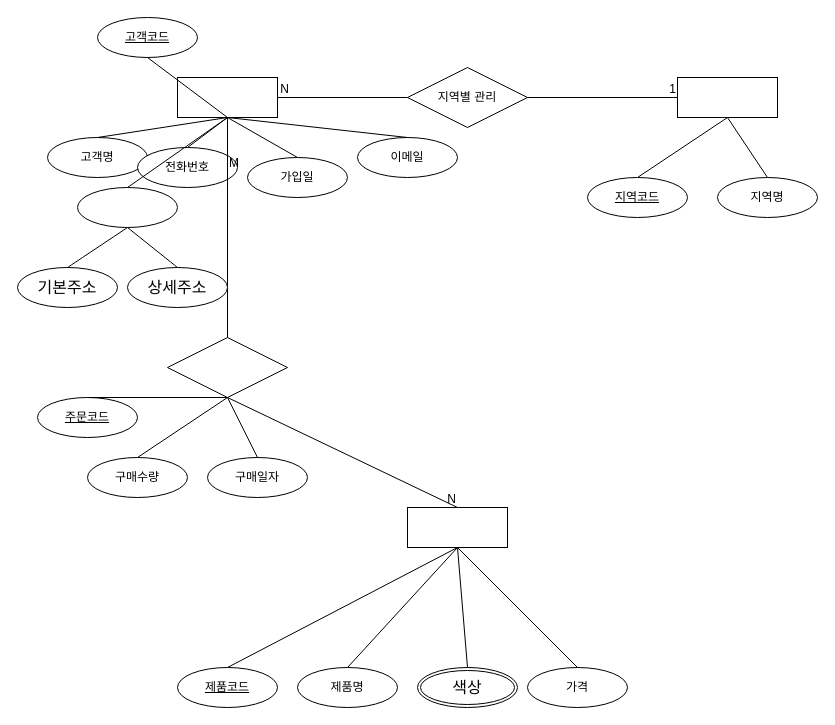
Some shapes in this 835 by 725 pixel diagram are drawn without their labels. The centre of each missing label's shape, as x and y in pixels:
"고객" goes at point (227, 97).
"구매" goes at point (227, 367).
"제품" goes at point (457, 527).
"주소" goes at point (127, 207).
"지역" goes at point (727, 97).
